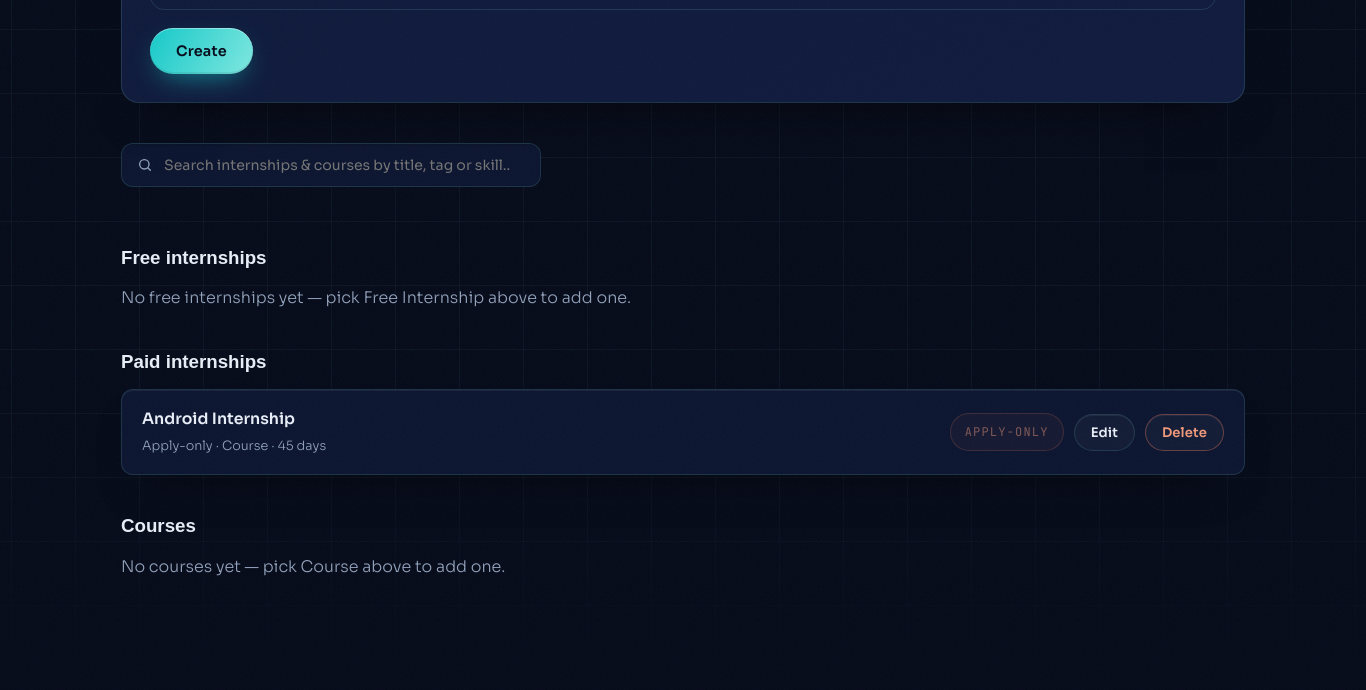
admin course form › duration › keeps an older internship's other length selectable, labelled as current
(page scrolled)
Click the button "Edit" at (1104, 432), box x1=1074 y1=414 x2=1135 y2=450
(page scrolled)
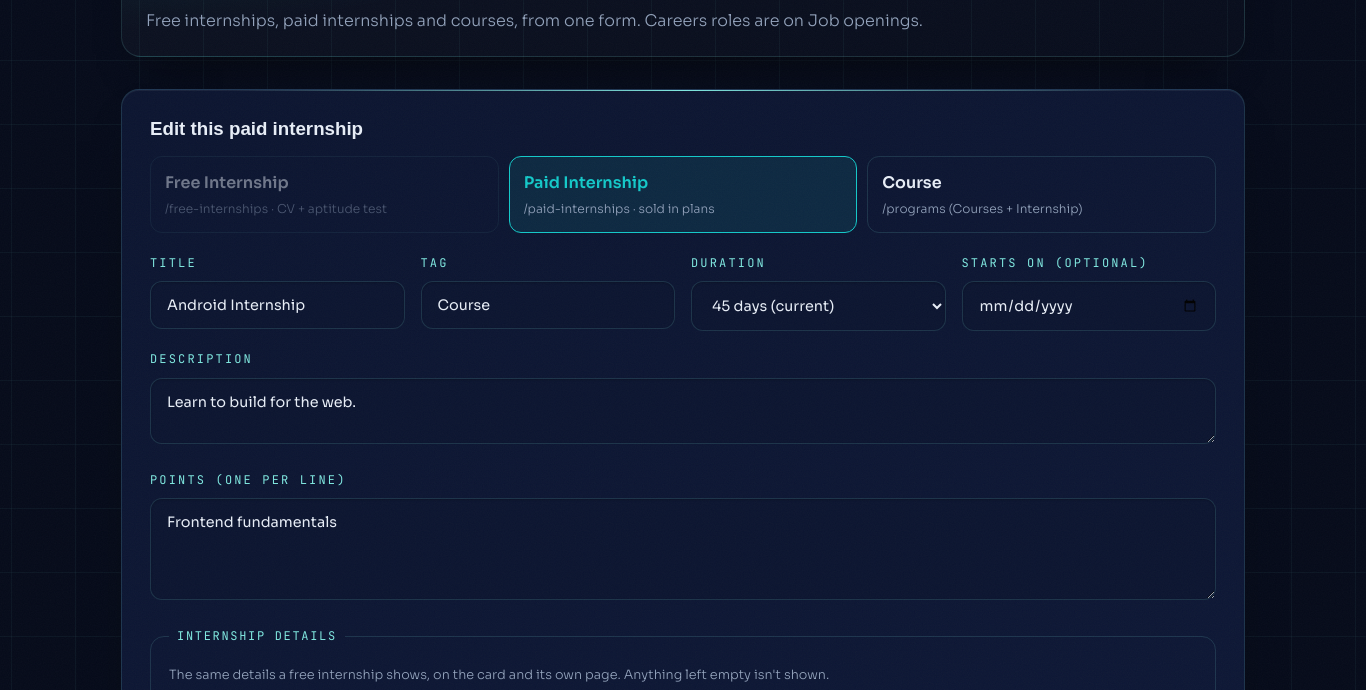
expect the dropdown with id "ac-duration" shows "45 days (current)": met, box x1=691 y1=281 x2=946 y2=331
